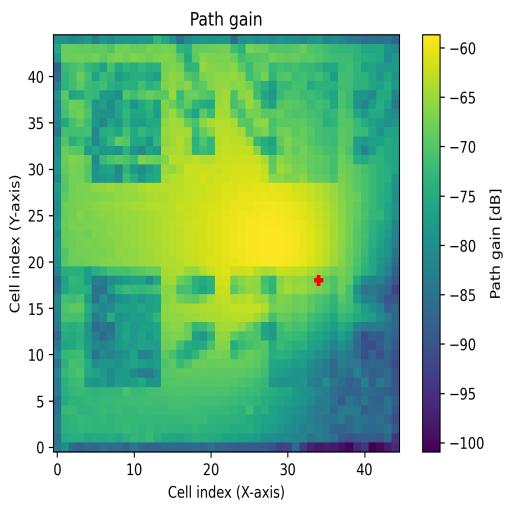Concrete: (268, 63, 338, 183)
Glass: (85, 62, 161, 183)
Metal: (270, 277, 338, 386)
Wood: (84, 266, 161, 389)
